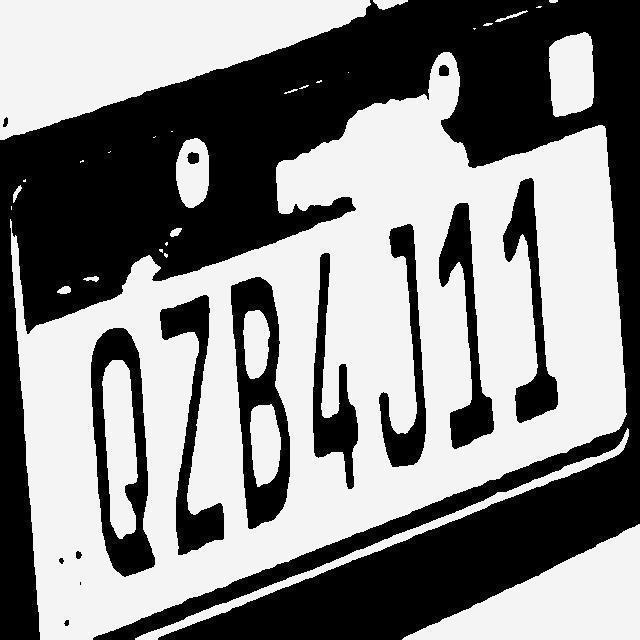1: (498, 174, 563, 433), (434, 194, 498, 456)
4: (309, 250, 362, 504)
b: (230, 274, 288, 532)
j: (374, 217, 430, 487)
q: (90, 321, 156, 582)
z: (156, 292, 227, 560)
